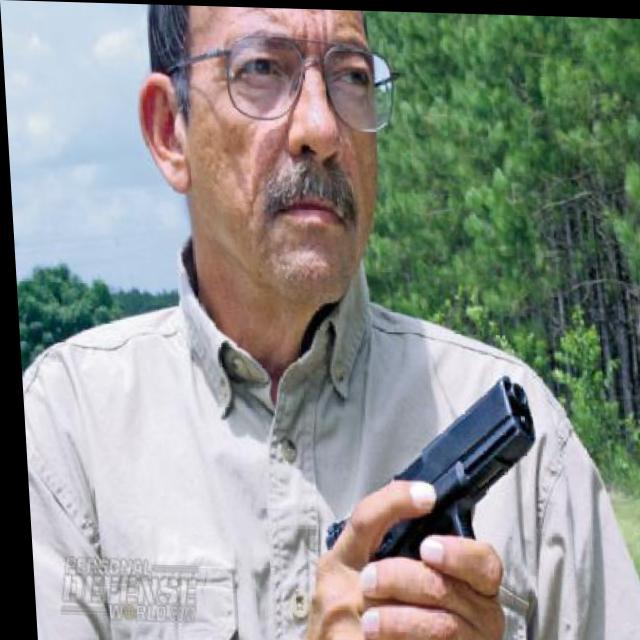handgun: (313, 365, 536, 562)
